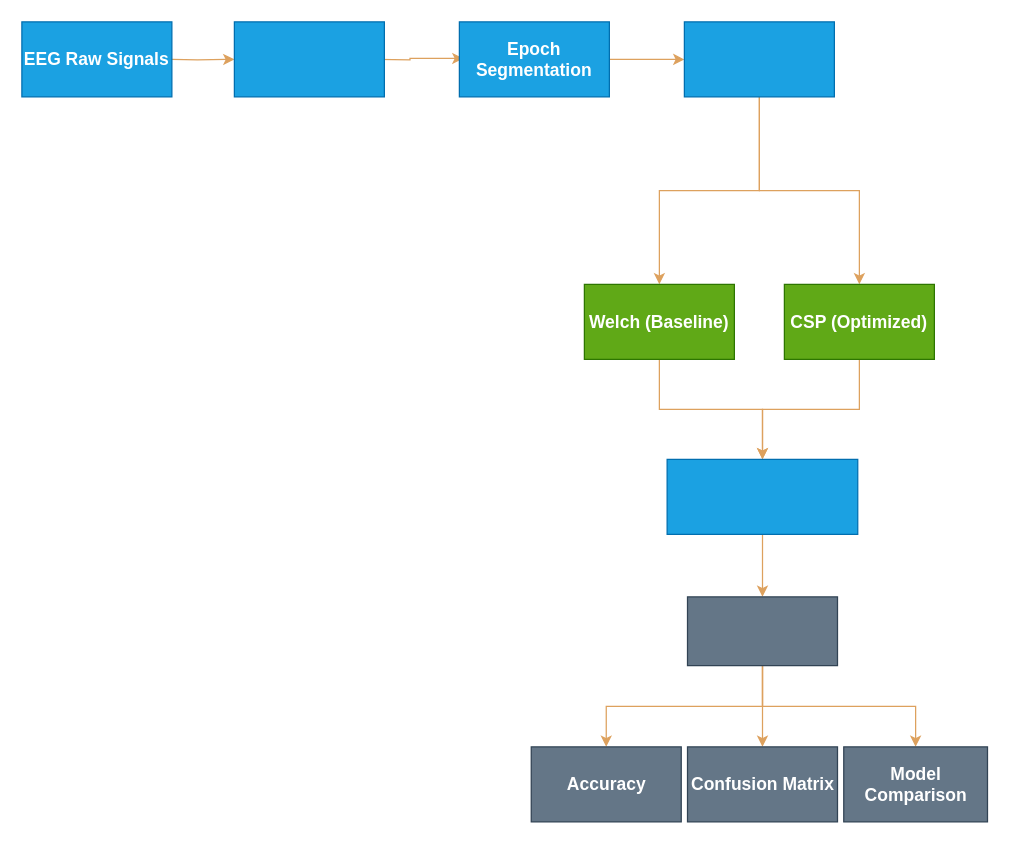
Some shapes in this 1010 by 844 pixel diagram are drawn without their labels. Each missing label, with the centre of its shape:
Evaluation: (762,631)
Feature Extraction: (758,59)
Filtering (Band-pass + Notch): (308,59)
SVM Classification: (762,496)
